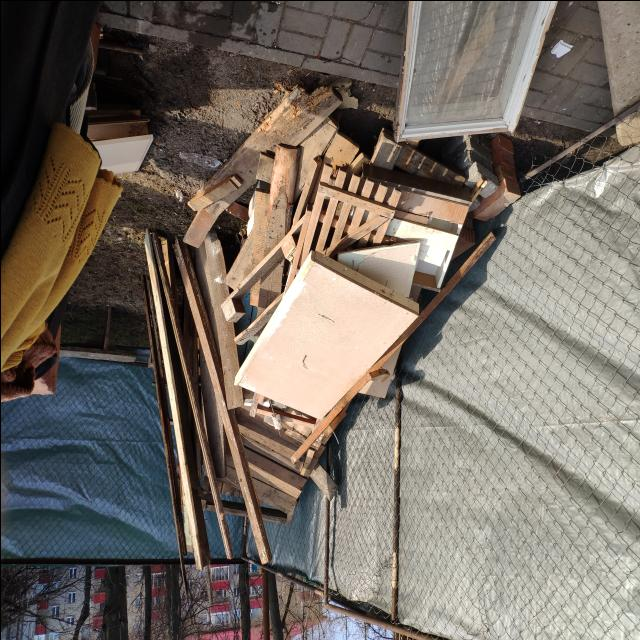entulho: (123, 222, 254, 564), (0, 114, 143, 406), (240, 248, 427, 424), (394, 0, 558, 143), (310, 161, 474, 294), (236, 82, 356, 234), (225, 414, 332, 526), (460, 132, 522, 221), (185, 160, 244, 248)
